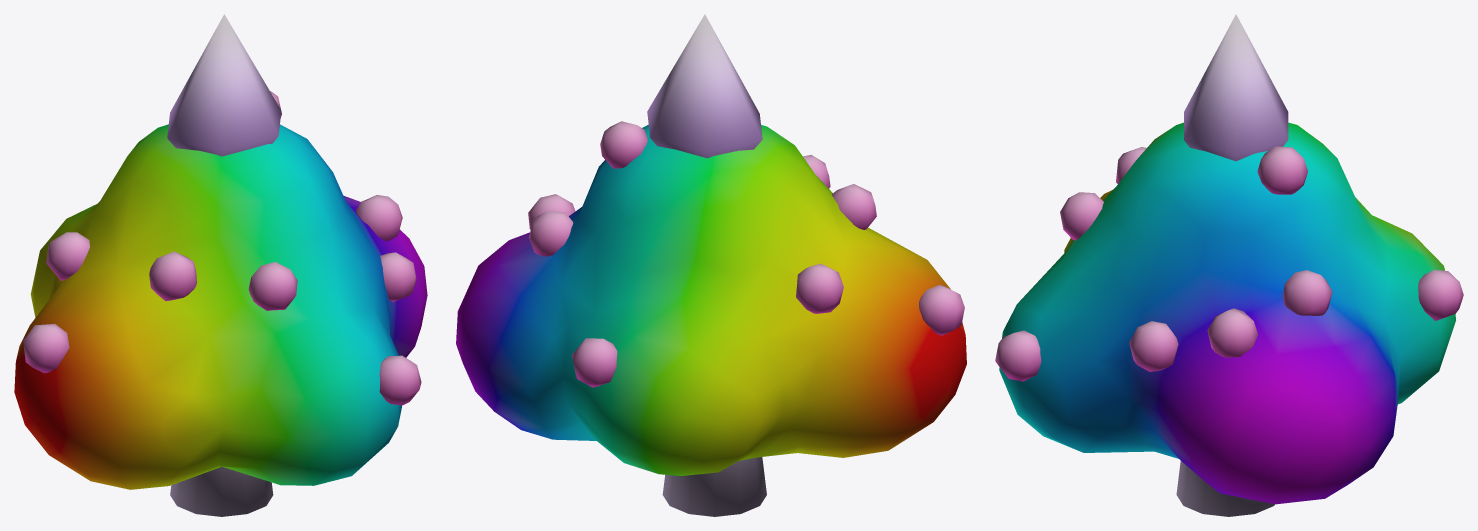
Rendered from Prismberry_Bush.glb.
3 renders of one model, left to right at view 1: azimuth 30°, elevation 25°; view 2: azimuth 150°, elevation 25°; view 3: azimuth 270°, elevation 25°, orthographic.
Visible parts, largest first — view 1: Prismberry_Bush; view 2: Prismberry_Bush; view 3: Prismberry_Bush.
Boxes of the visible parts, <box> form: Prismberry_Bush: <box>14,14,427,516</box>; Prismberry_Bush: <box>456,14,966,516</box>; Prismberry_Bush: <box>995,14,1463,516</box>.
Bounding box in the file's own units: 3.49 × 3.67 × 3.22.
